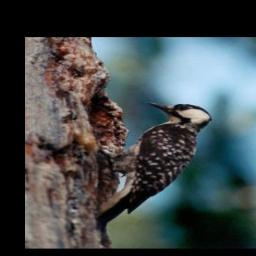Woodpecker: (88, 99, 226, 233)
